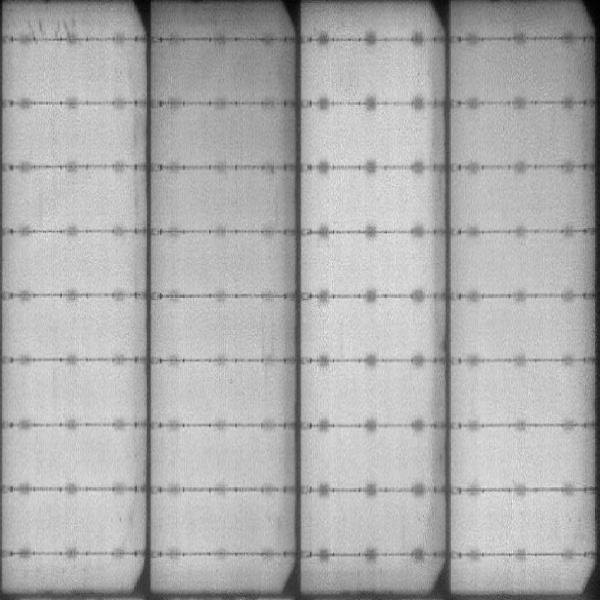scratch: (12, 20, 88, 37)
